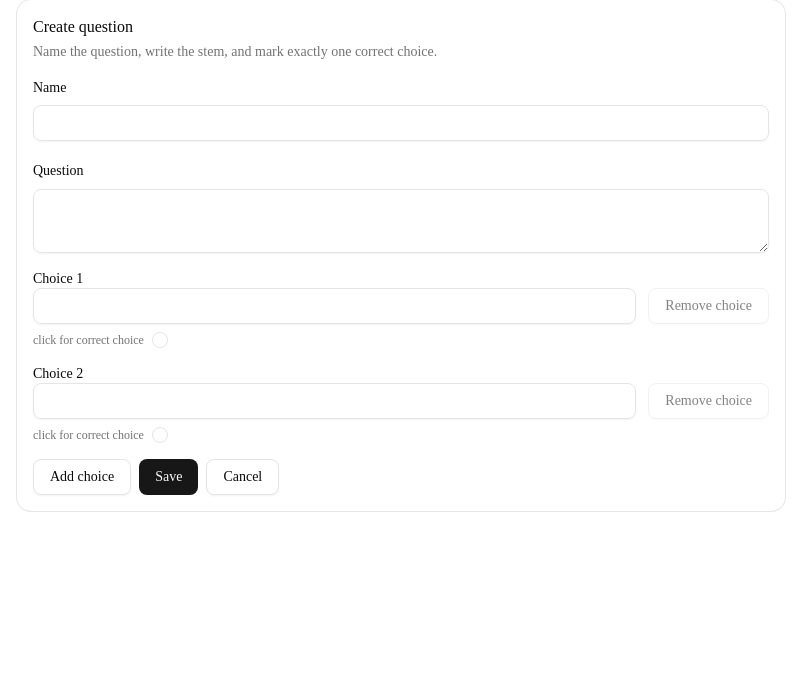
Test: McqForm › Save does not submit when name or question is empty
Click the button "Save" at [169, 477], box [139,459,198,495]
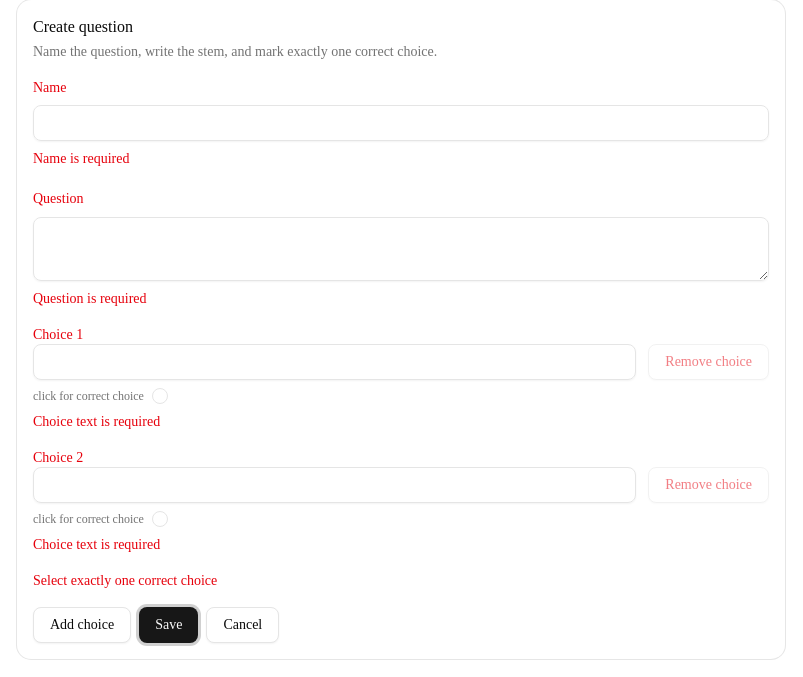
Now the message "Name is required" is shown, box [33,151,129,166]
